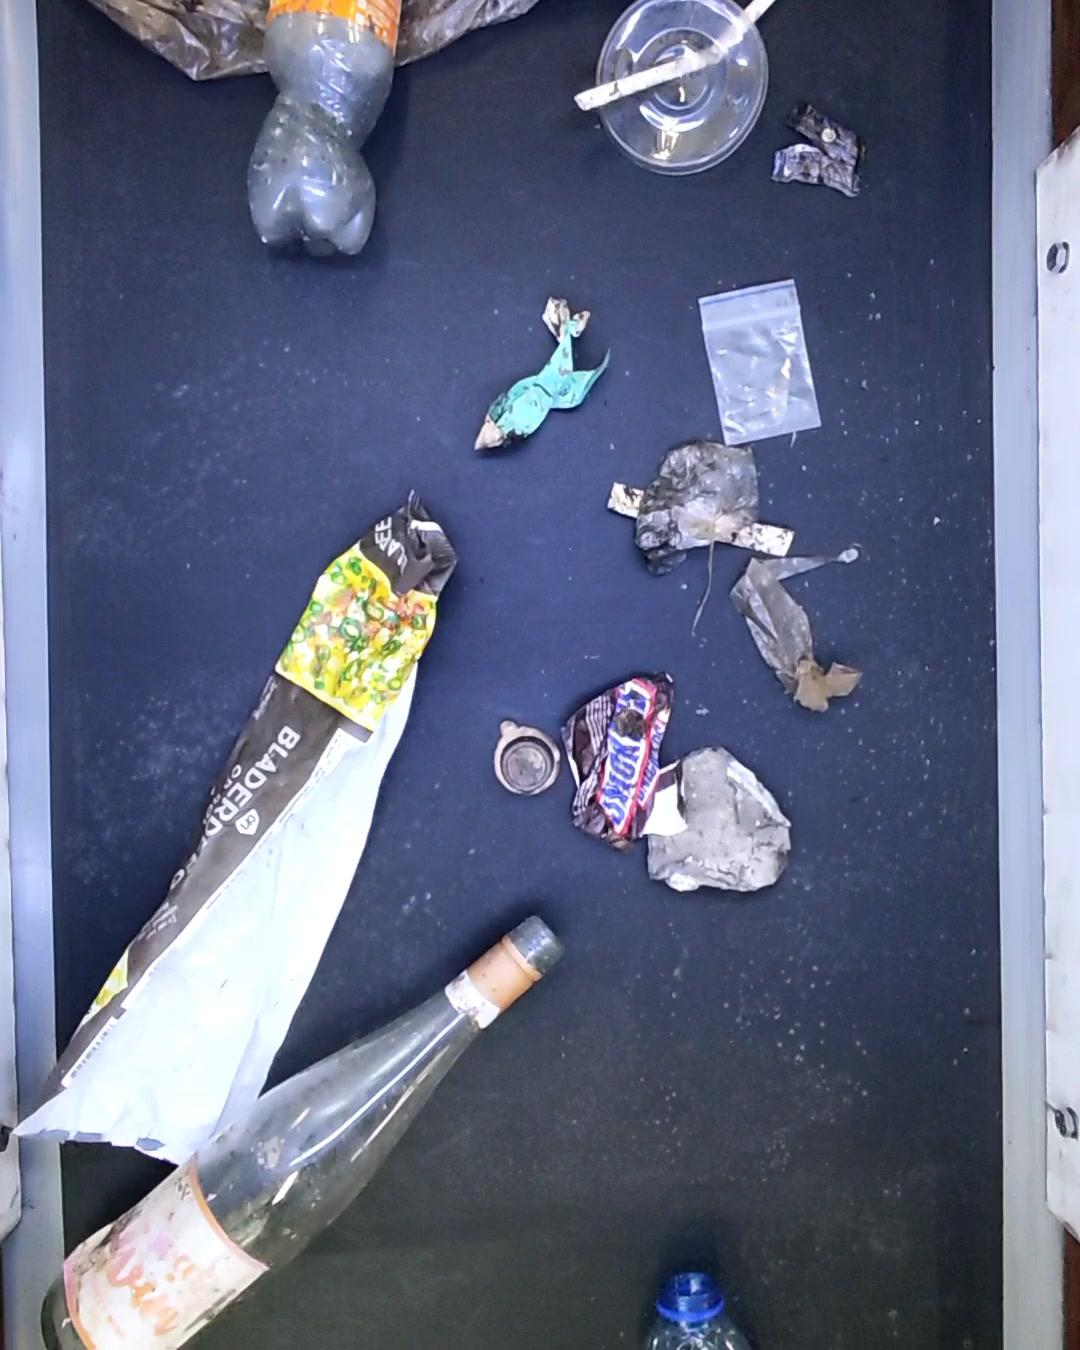Drankflessen - 1-2 liter: (246, 0, 404, 257), (648, 1267, 752, 1350)
Plastic folies of stukken daarvan 2.5- 50 cm: (89, 0, 544, 78), (730, 542, 868, 716), (636, 440, 766, 577)
Snoep snack en chips verpakkingen: (559, 670, 689, 849), (774, 107, 867, 206)
Voedselverpakkingen: (10, 490, 458, 1170), (493, 720, 562, 798)
